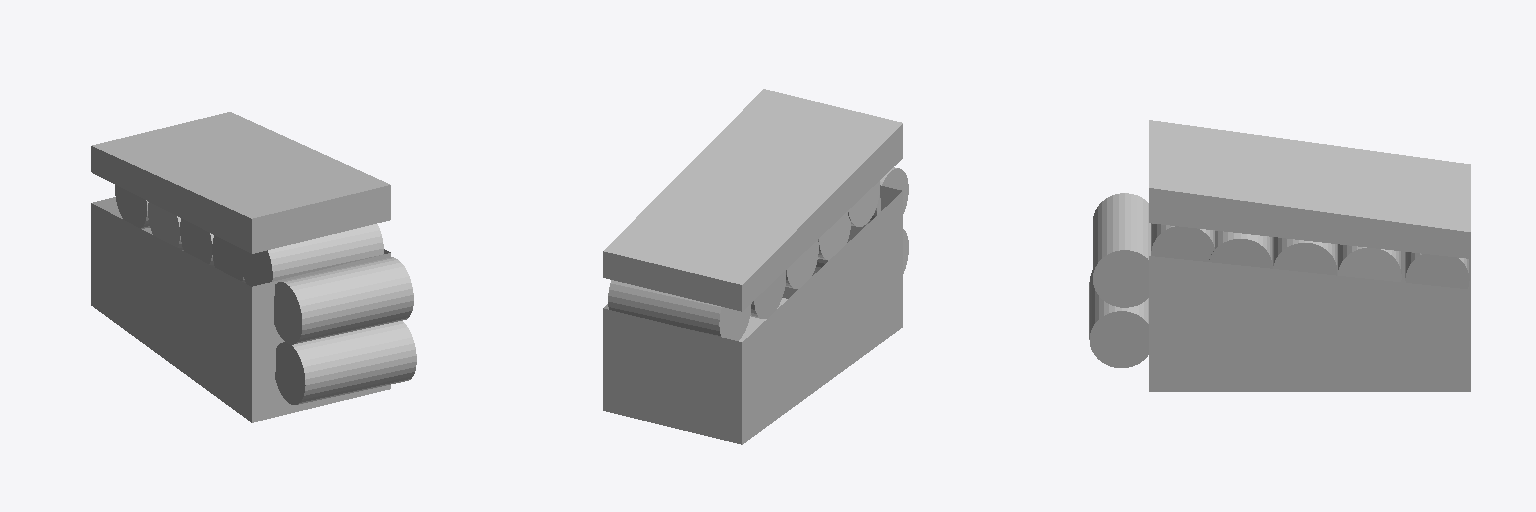
Rendered from weaponUpgrade.obj.
3 renders of one model, left to right at view 1: azimuth 30°, elevation 25°; view 2: azimuth 150°, elevation 25°; view 3: azimuth 270°, elevation 25°, orthographic.
Parts seen in each view (by area): view 1: Cube, Cylinder; view 2: Cube, Cylinder; view 3: Cube, Cylinder.
Boxes of the visible parts, <box> form: Cube: <box>91,112,390,422</box>; Cylinder: <box>115,185,416,404</box>; Cube: <box>603,89,902,444</box>; Cylinder: <box>608,167,908,340</box>; Cube: <box>1149,120,1470,391</box>; Cylinder: <box>1089,193,1469,367</box>.
Bounding box in the file's own units: 0.25 × 0.3505 × 0.5925.